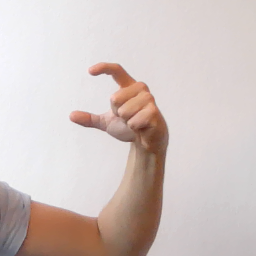C: (67, 60, 173, 155)
